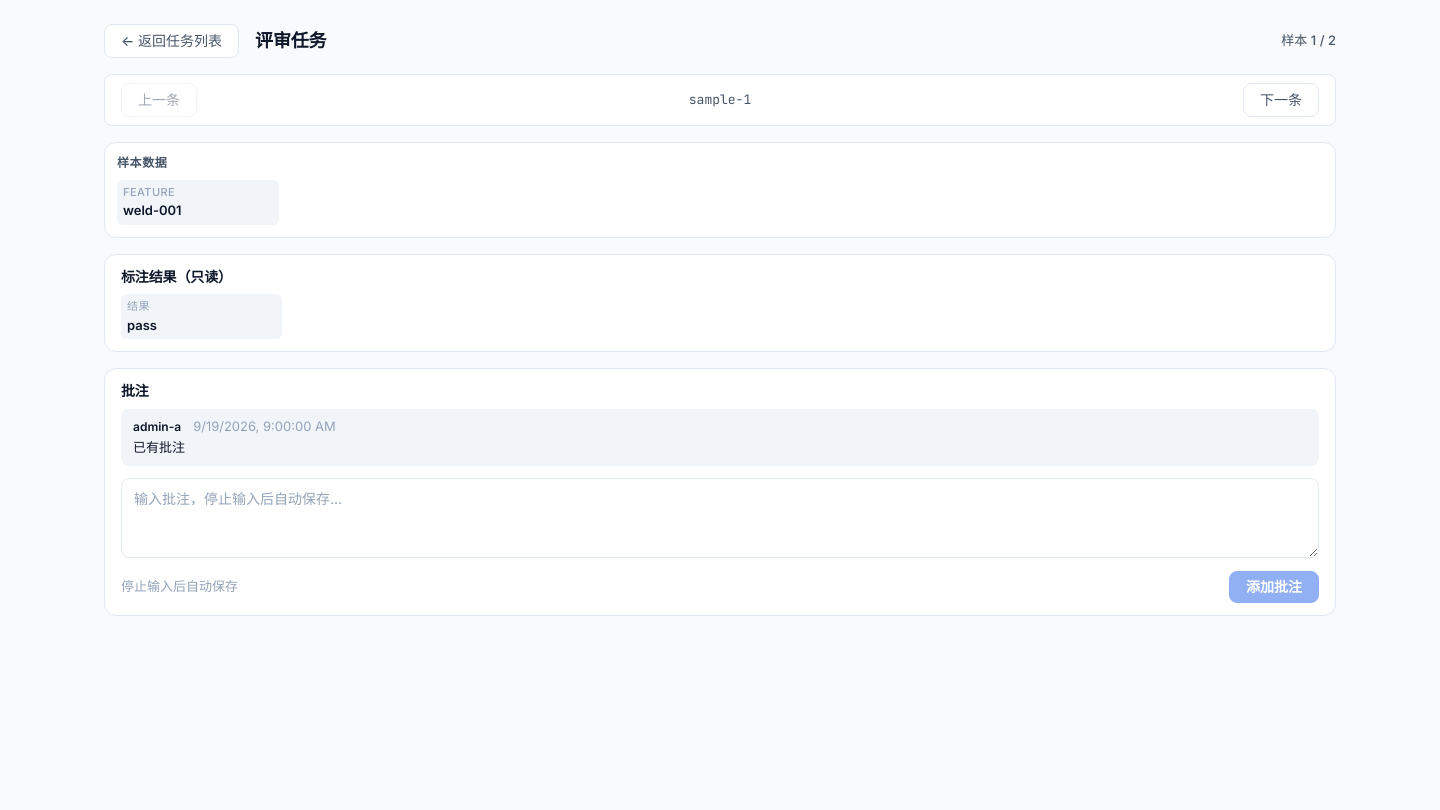
Test: AdminReviewPage › autosaves a comment 800ms after typing pauses
Check: the text "weld-001" is shown, box [123,202,182,218]
Type "  新批注内容  " into the text box named "批注内容" at [720, 518], box [121,478,1319,558]
Wait 800 ms
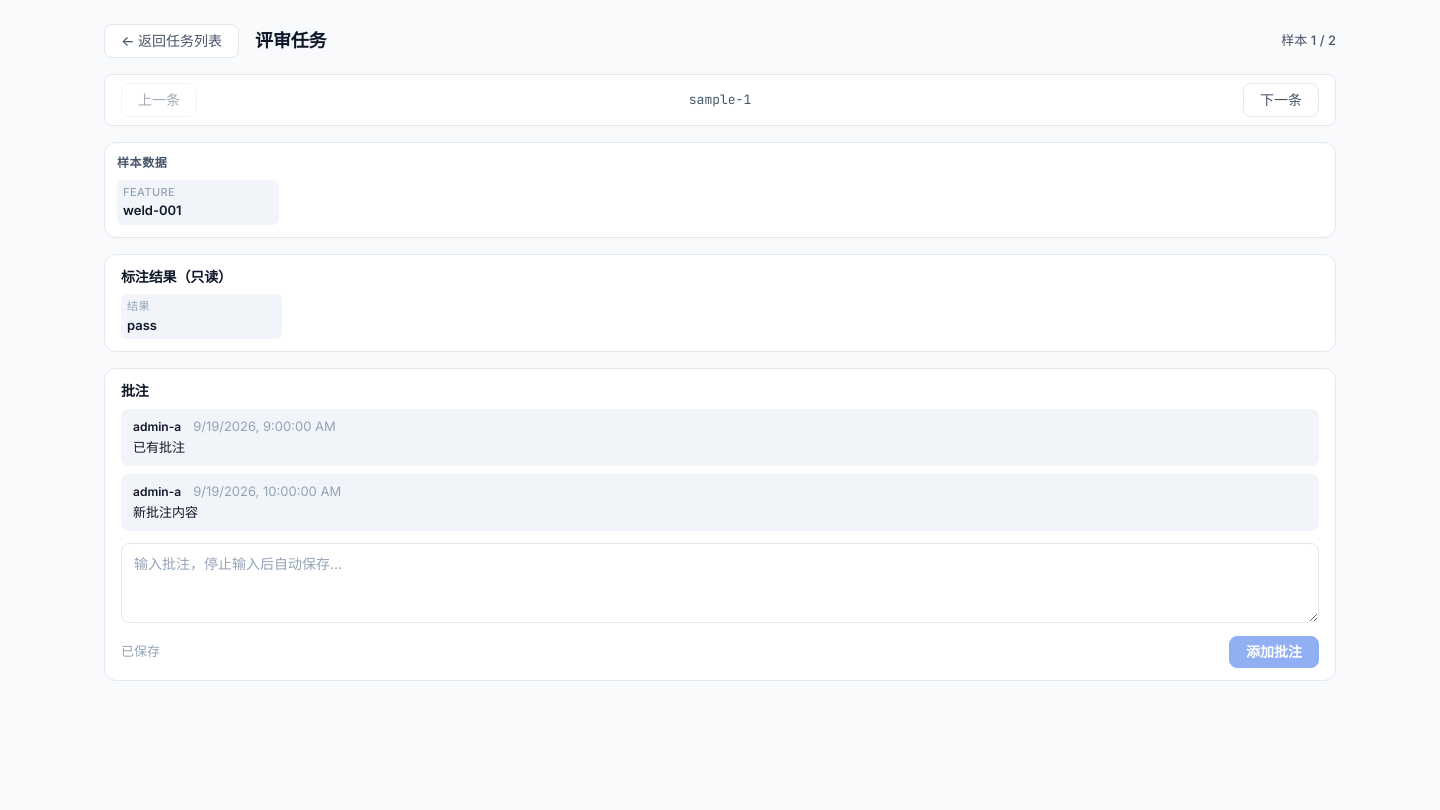
Check: the text box named "批注内容" is empty, box [121,543,1319,623]
Check: the text "新批注内容" is shown, box [133,504,198,520]
Check: the text "已保存" is shown, box [121,642,160,662]
